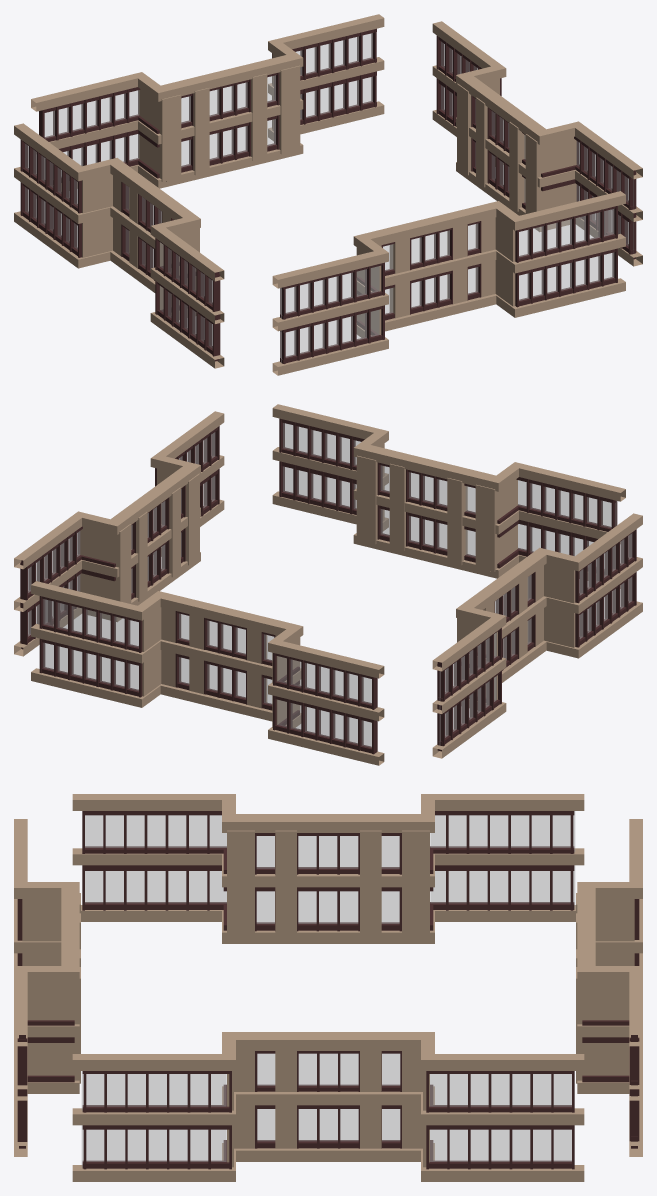
The model's file is mdl_side_complete_25x25.fbx.
The picture shows the model from 3 angles, top to bottom: view 1: azimuth 30°, elevation 25°; view 2: azimuth 150°, elevation 25°; view 3: azimuth 270°, elevation 25°; orthographic projection. The views are drawn at different scales.
Visible parts, largest first — view 1: Side, Glass; view 2: Side, Glass; view 3: Side, Glass.
Part boxes in pixels (<box>): Side: <box>14,14,642,375</box>; Glass: <box>25,33,633,362</box>; Side: <box>14,404,642,765</box>; Glass: <box>28,423,632,747</box>; Side: <box>14,794,642,1181</box>; Glass: <box>81,811,575,1166</box>.
Bounding box in the file's own units: 25.69 × 5.5 × 25.69.
